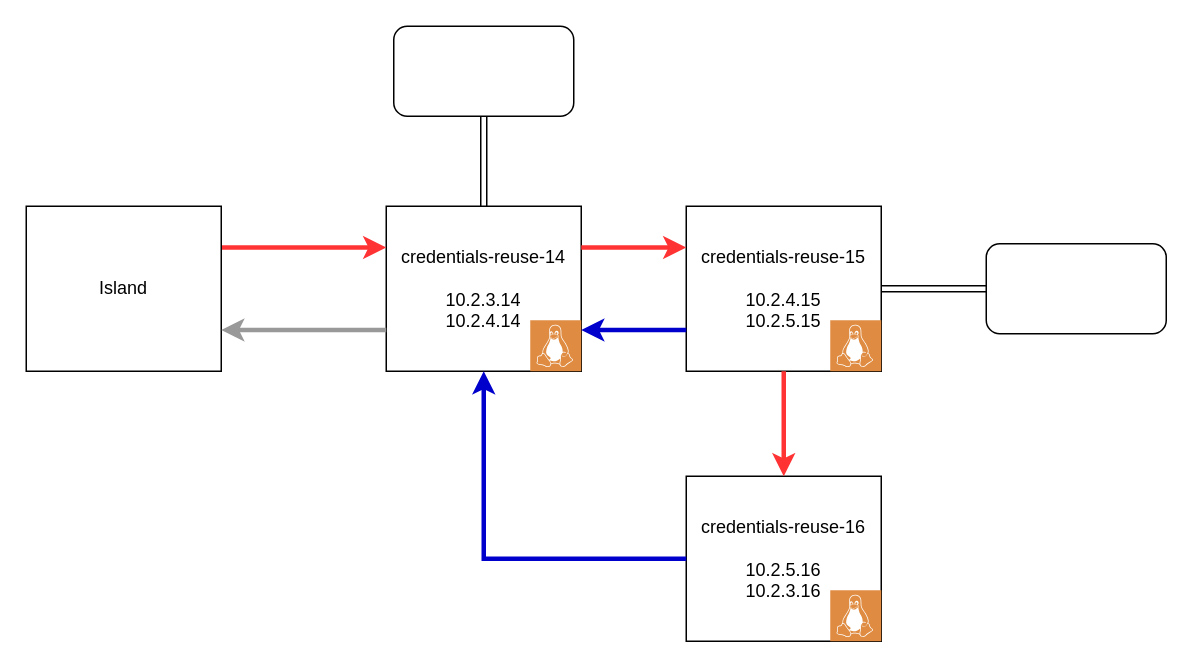
Some shapes in this 1193 by 668 pixel diagram are drawn without their labels. Each missing label, with the centre of its shape:
"Steal SSH Credentials" belongs at [483,70].
"Uses stolen SSH Credentials" belongs at [1075,288].
